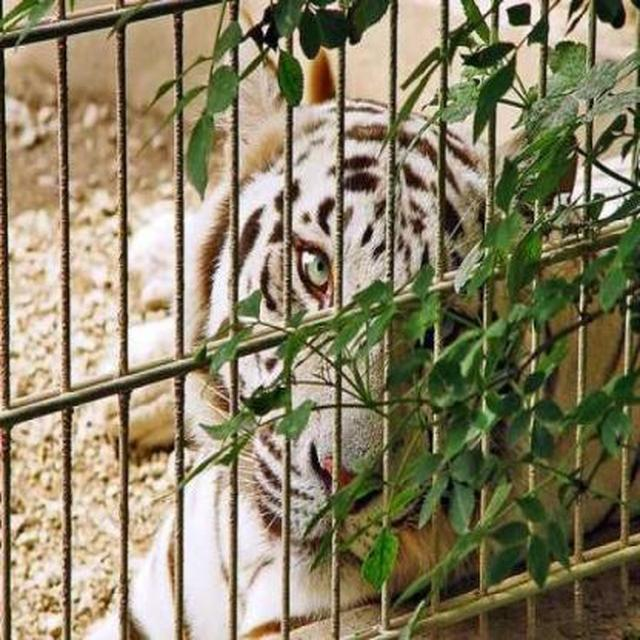tiger: (64, 0, 639, 639)
